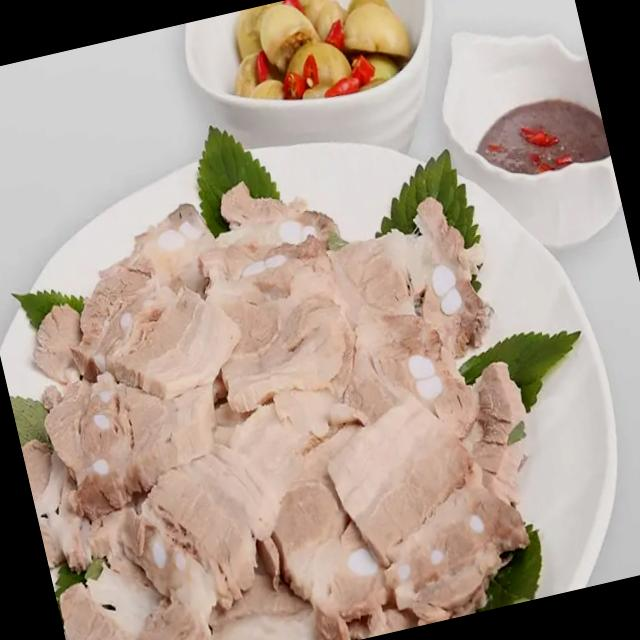thit luoc: (21, 182, 527, 640), (35, 182, 528, 640)
